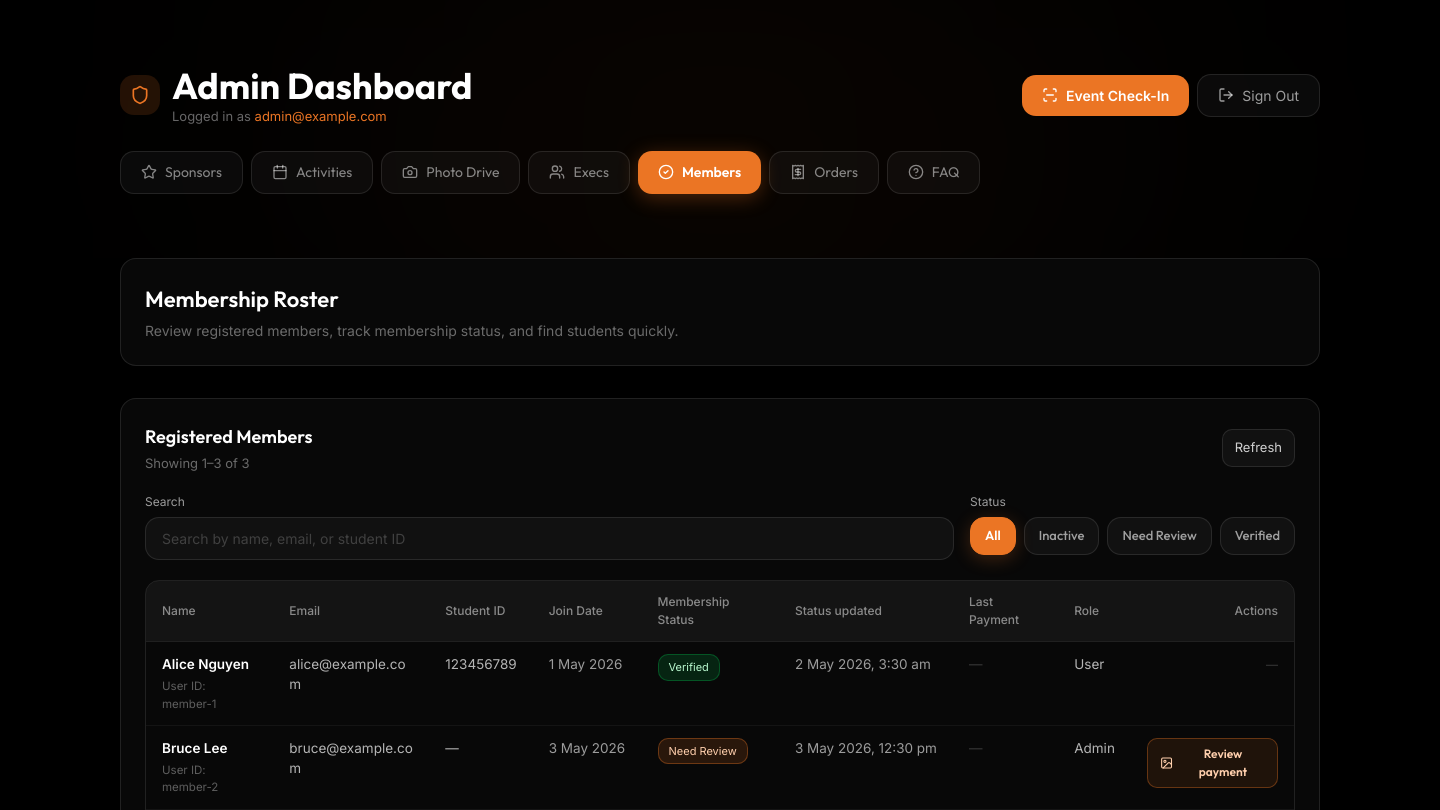
Admin membership roster › shows an error state when proof metadata loading fails
The image size is (1440, 810).
Expected: the text "Bruce Lee" is shown, [162,740,227,756]
Click the button "Review payment".
click(1212, 763)  # box [1147,738,1278,788]
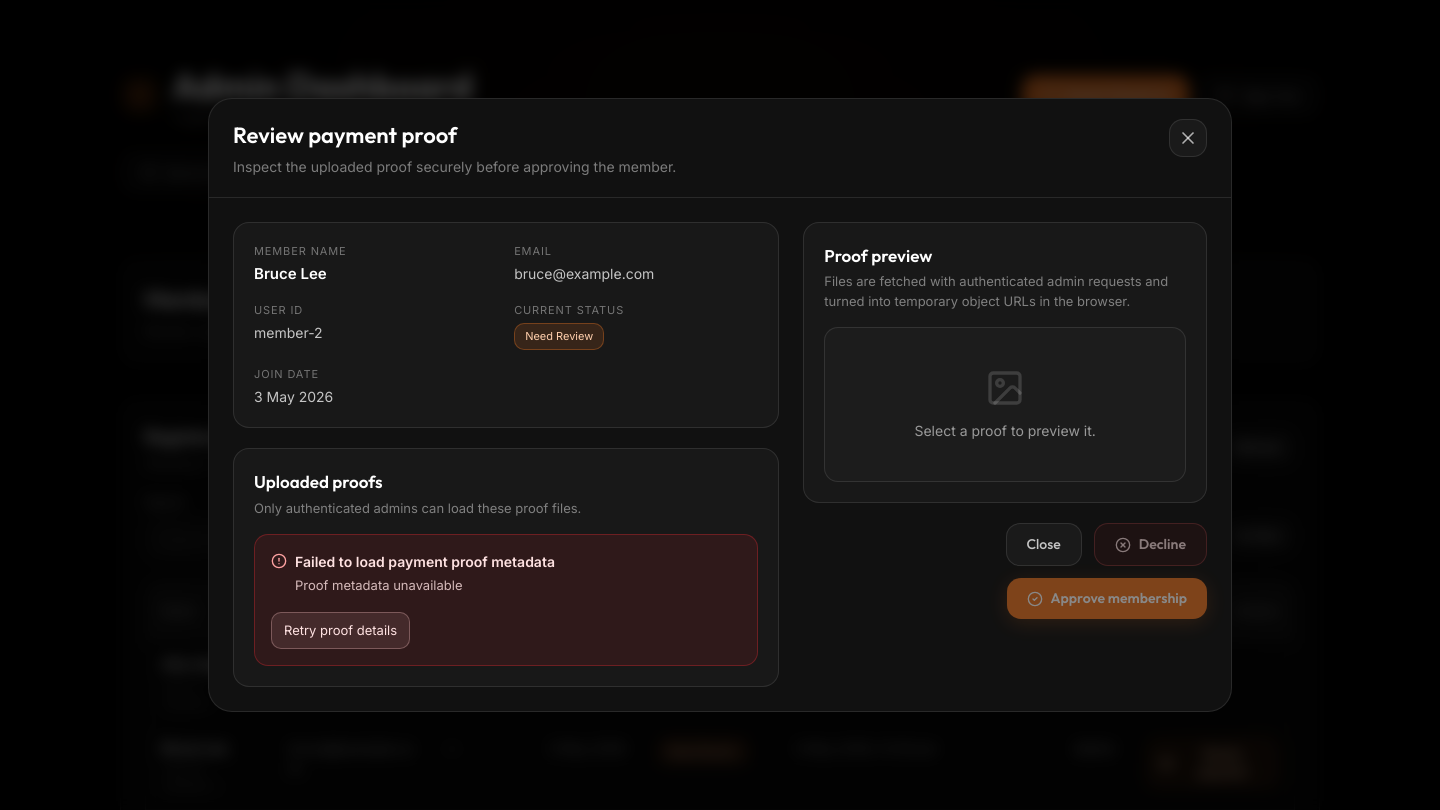
Expected: the text "Failed to load payment proof metadata" is shown, [295,551,555,572]
Expected: the text "Proof metadata unavailable" is shown, [295,577,462,593]
